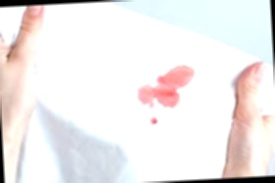blood: (136, 65, 196, 110), (149, 117, 158, 125)
